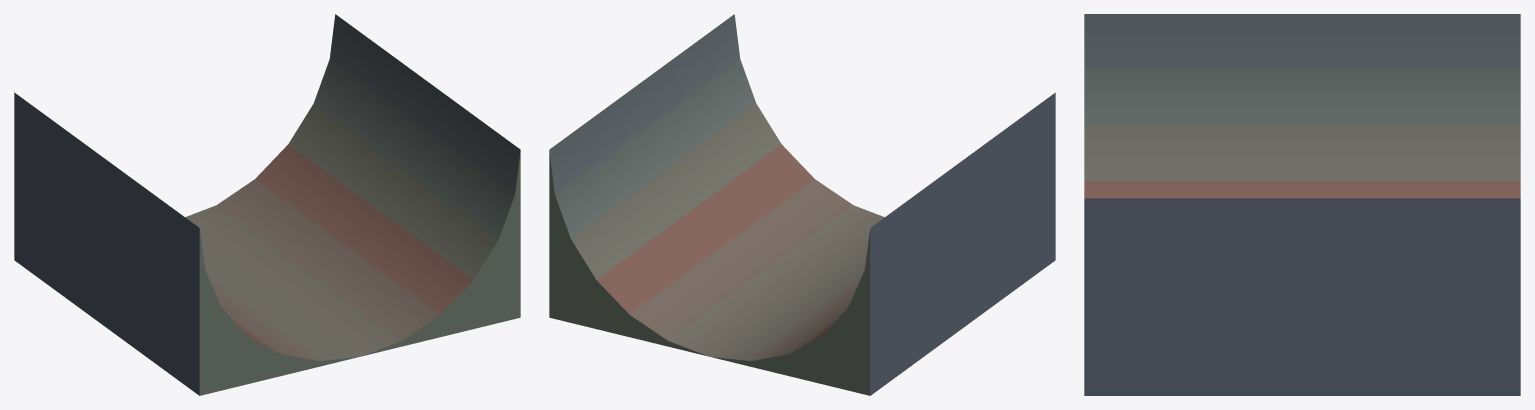
Rendered from Halfpipe.fbx.
The picture shows the model from 3 angles, left to right: view 1: azimuth 30°, elevation 25°; view 2: azimuth 150°, elevation 25°; view 3: azimuth 270°, elevation 25°; orthographic projection. The views are drawn at different scales.
Parts seen in each view (by area): view 1: Mesh; view 2: Mesh; view 3: Mesh.
Boxes of the visible parts, bbox=[...] form: Mesh: bbox=[14, 14, 520, 395]; Mesh: bbox=[549, 14, 1055, 395]; Mesh: bbox=[1084, 14, 1520, 395].
Size of the model in its own units: 100 by 50 by 100.
